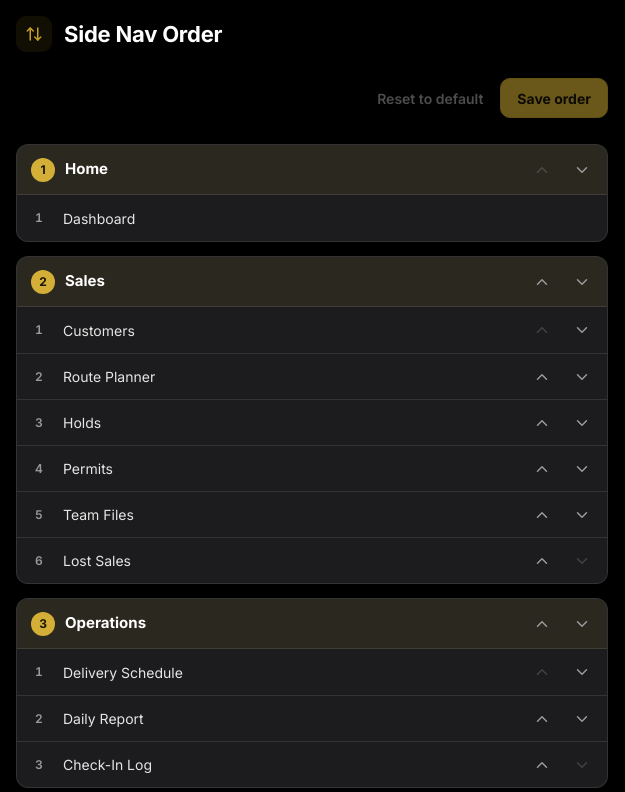
Test case: Side Nav Order › moves a section and saves the new order
Expected: the heading with class "nvo-title" reads "Side Nav Order", [64, 20, 222, 46]
Step 1. Click the 2nd button with class "nvo-arrow" → (582, 170), box [563, 150, 601, 188]
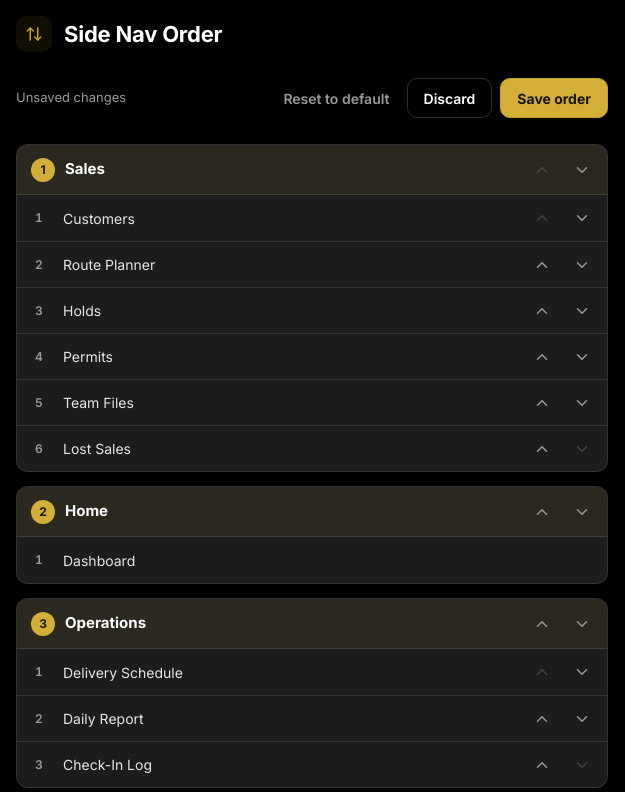
Now the text "Unsaved changes" is shown, box [16, 89, 126, 105]
Step 2. Click the button "Save order" → (554, 98), box [500, 78, 608, 118]
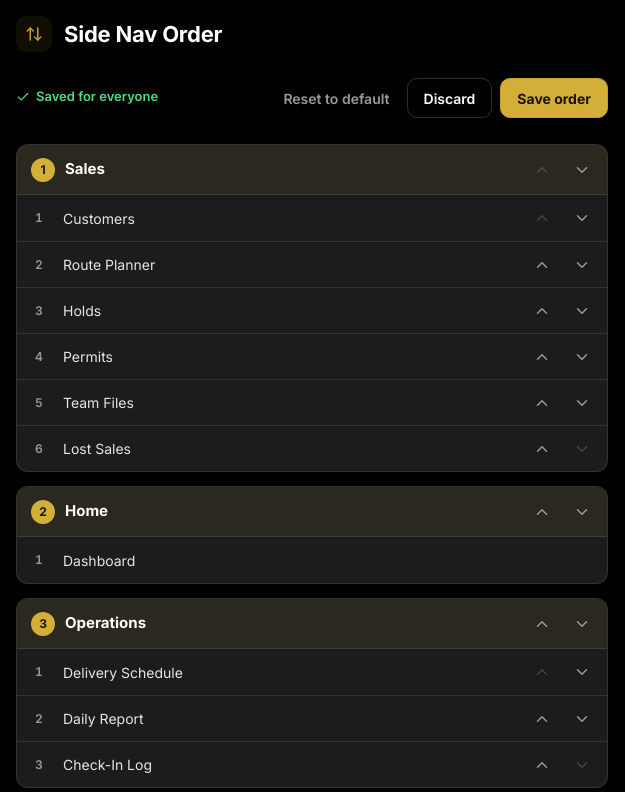
Now the text "Saved for everyone" is shown, box [16, 87, 158, 106]
